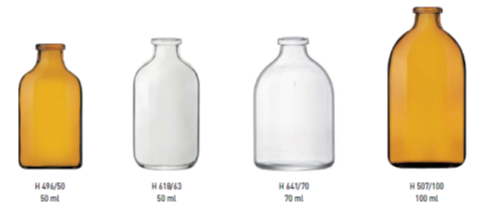glass_bottle: (385, 4, 468, 170), (251, 35, 337, 174), (12, 37, 91, 174), (130, 35, 202, 174)
